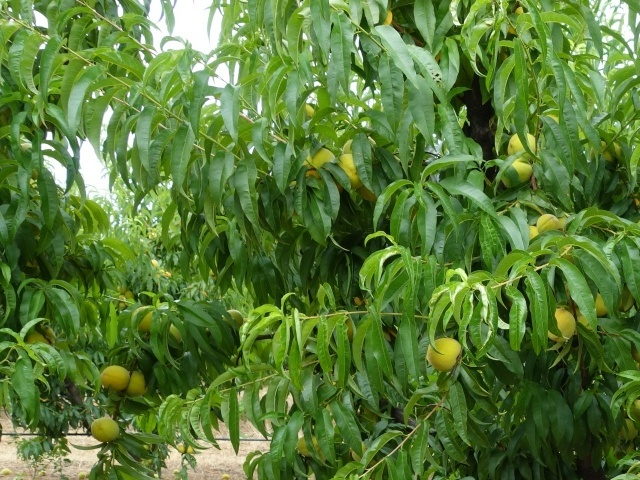peach: (421, 334, 466, 375), (547, 304, 580, 344), (300, 143, 340, 176), (502, 152, 537, 188), (505, 132, 542, 166), (88, 414, 124, 447), (97, 362, 134, 394), (120, 371, 156, 402), (336, 153, 368, 187), (532, 211, 562, 239), (295, 433, 323, 462), (619, 415, 639, 446), (223, 308, 246, 332)
